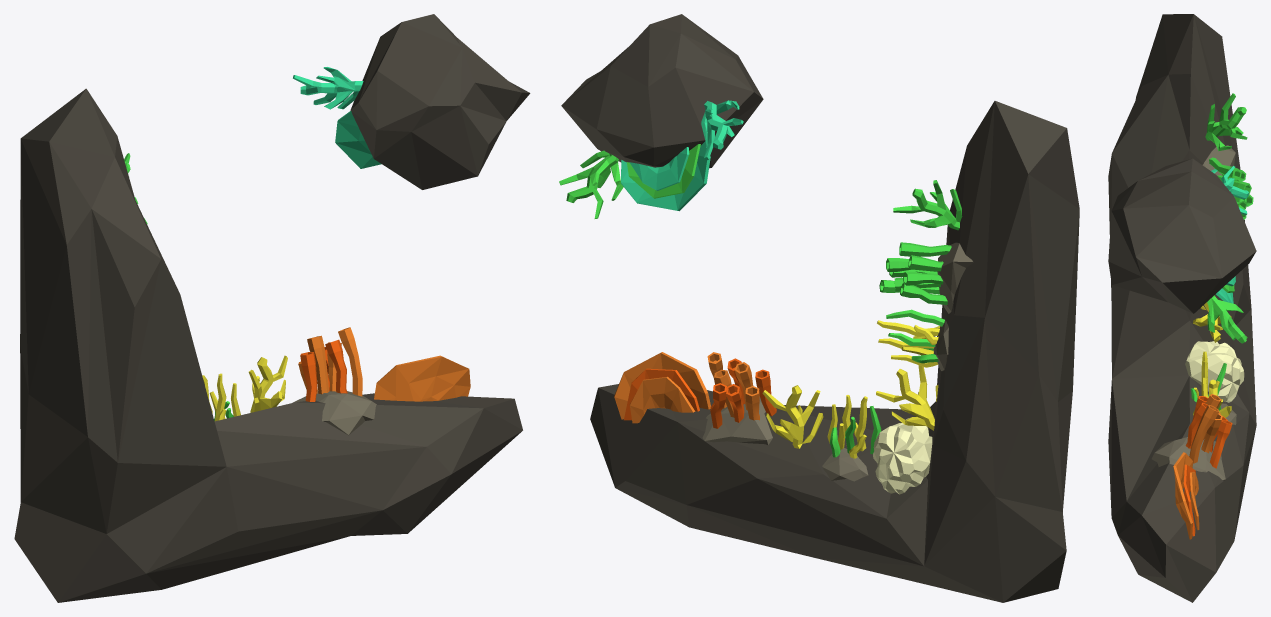
File: CornerCoral.FBX
The picture shows the model from 3 angles, left to right: view 1: azimuth 30°, elevation 25°; view 2: azimuth 150°, elevation 25°; view 3: azimuth 270°, elevation 25°; orthographic projection. The views are drawn at different scales.
Parts seen in each view (by area): view 1: CornerCoral; view 2: CornerCoral; view 3: CornerCoral.
Boxes of the visible parts, <box> form: CornerCoral: <box>14,14,530,602</box>; CornerCoral: <box>559,14,1079,602</box>; CornerCoral: <box>1108,14,1256,602</box>.
Size of the model in its own units: 112 by 108 by 32.75.
